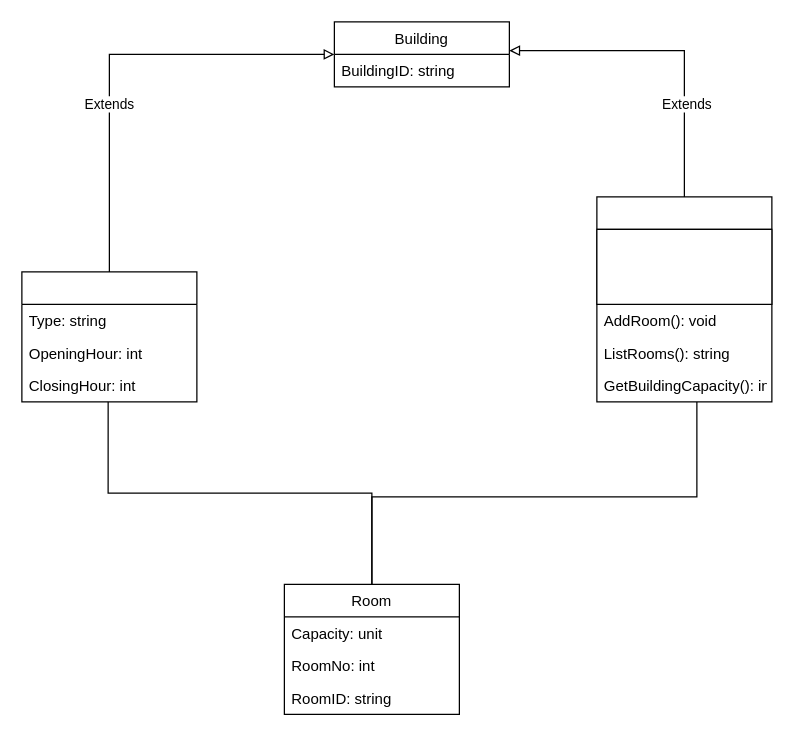
Some shapes in this 795 by 740 pixel diagram are drawn without their labels. Each missing label, with the box of its shape:
AmenitiesBuilding: (21, 271, 197, 402)
TeachingBuilding: (596, 196, 772, 402)
